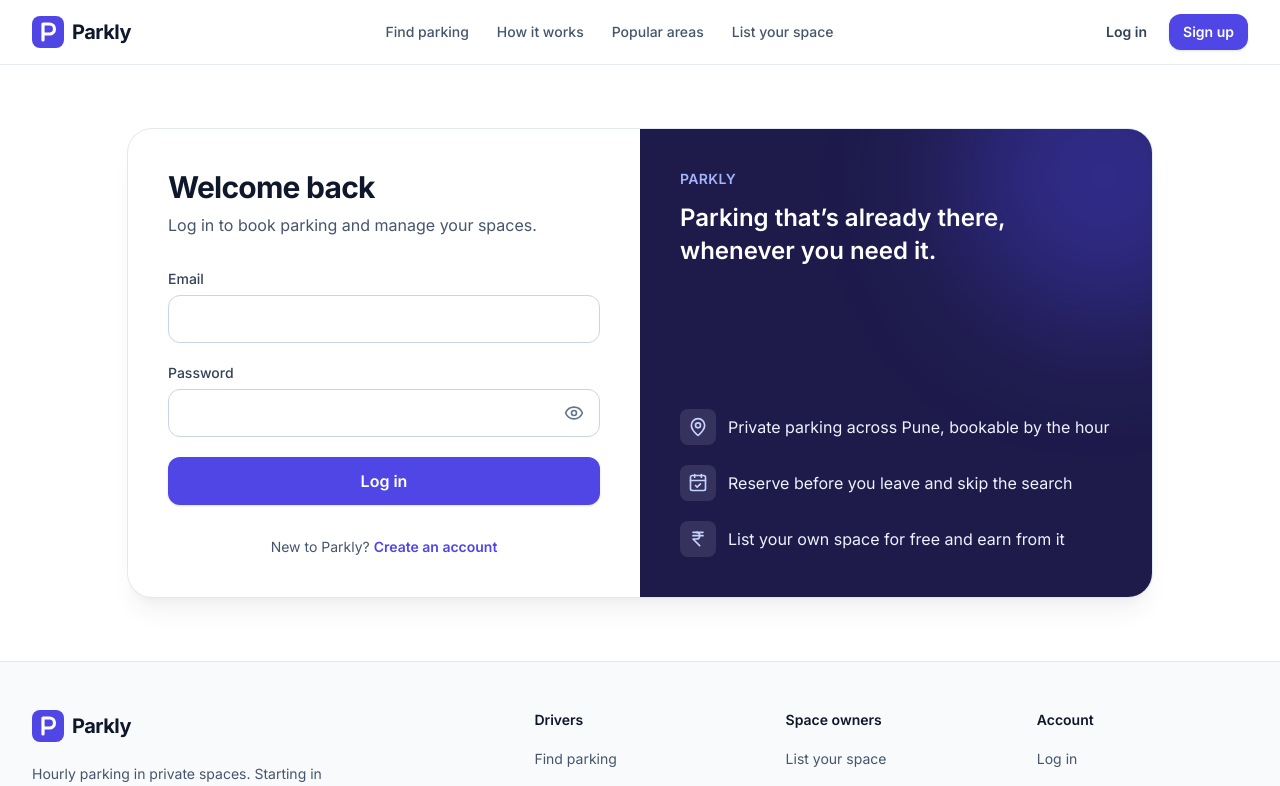
Login › shows the server message for wrong credentials
Step 1. Type "priya@example.com" into the field labelled "Email" → {"x": 384, "y": 319}, box 168,295 -> 600,343
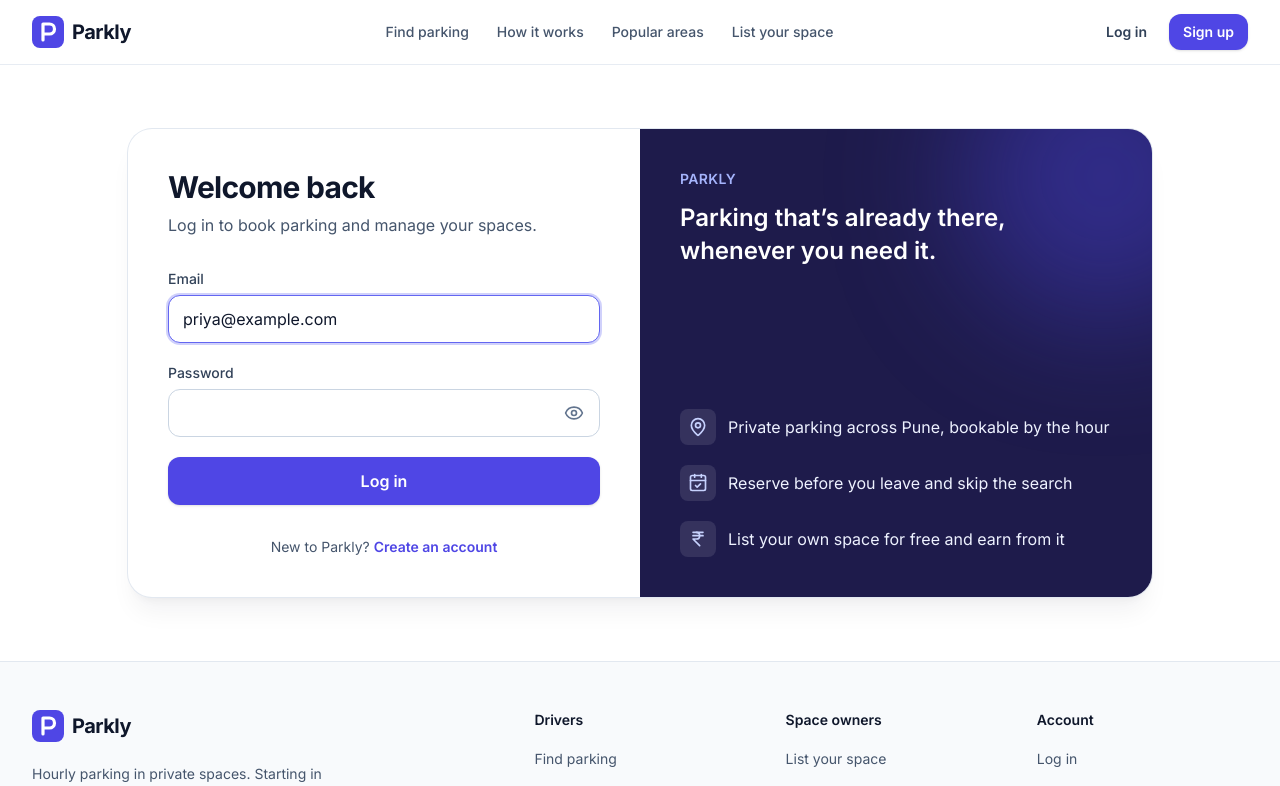
Step 2. Type "wrongpass1" into the password field labelled "Password" → {"x": 384, "y": 413}, box 168,389 -> 600,437
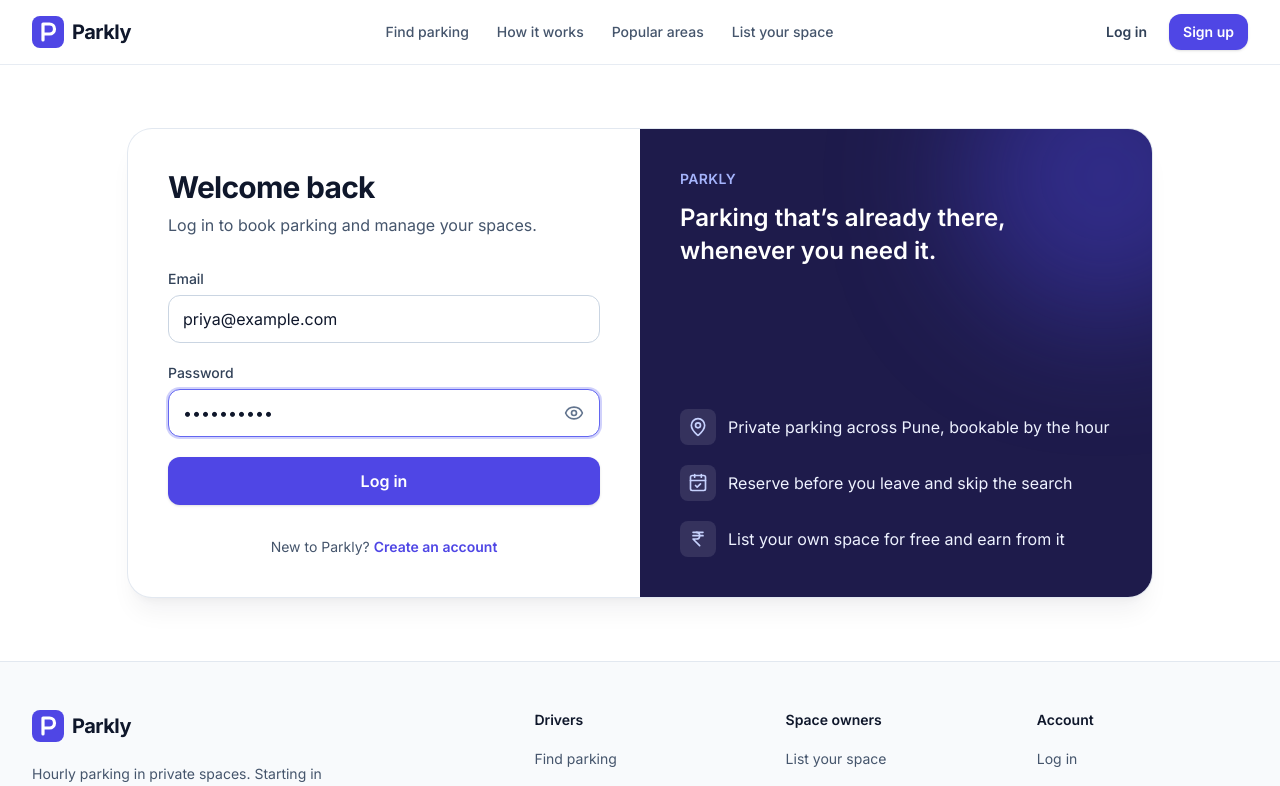
Step 3. Click the button "Log in" → {"x": 384, "y": 481}, box 168,457 -> 600,505
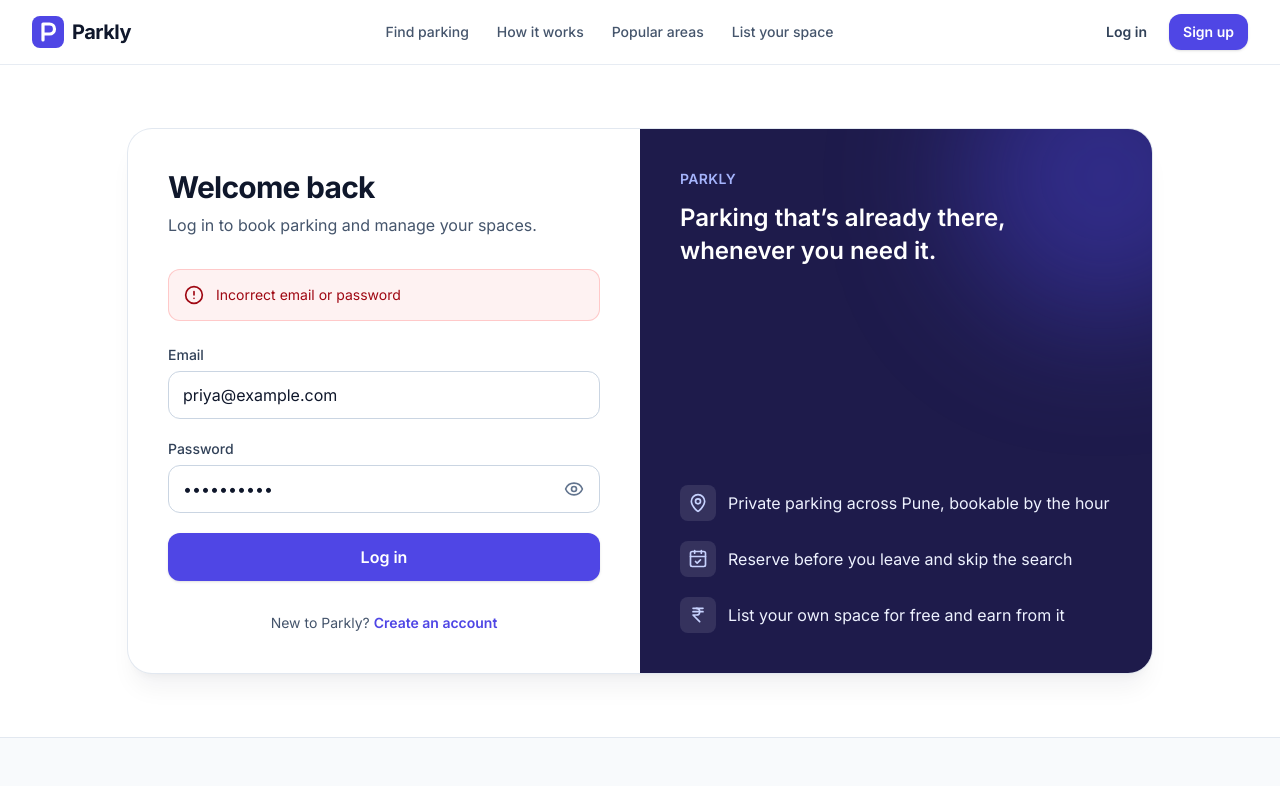
Expected: the message reads "Incorrect email or password", 216,286 -> 401,303
